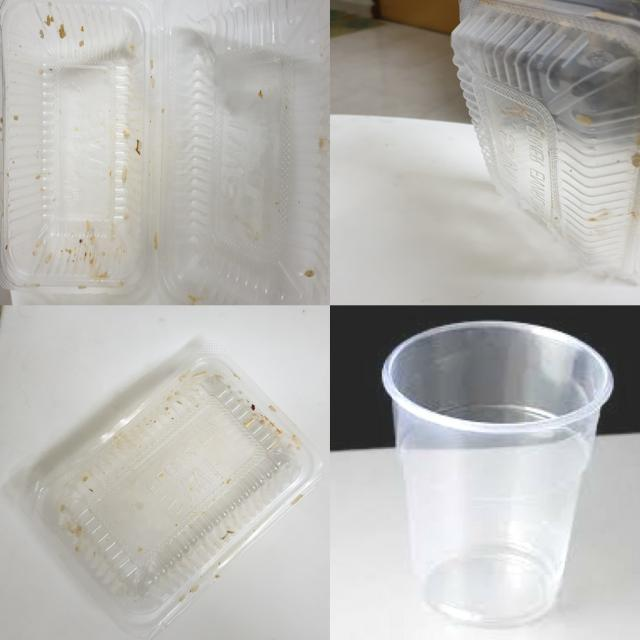plastik: (27, 343, 322, 638), (382, 322, 613, 626), (452, 0, 640, 282), (156, 0, 329, 304), (0, 0, 152, 289)
